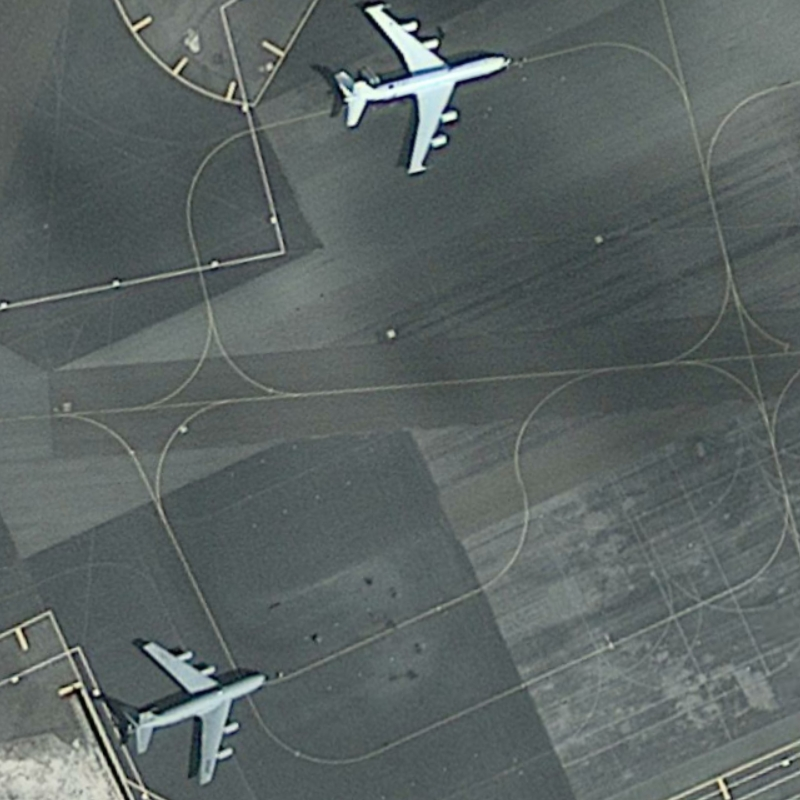A11: (319, 2, 517, 182)
A14: (110, 622, 277, 786)
